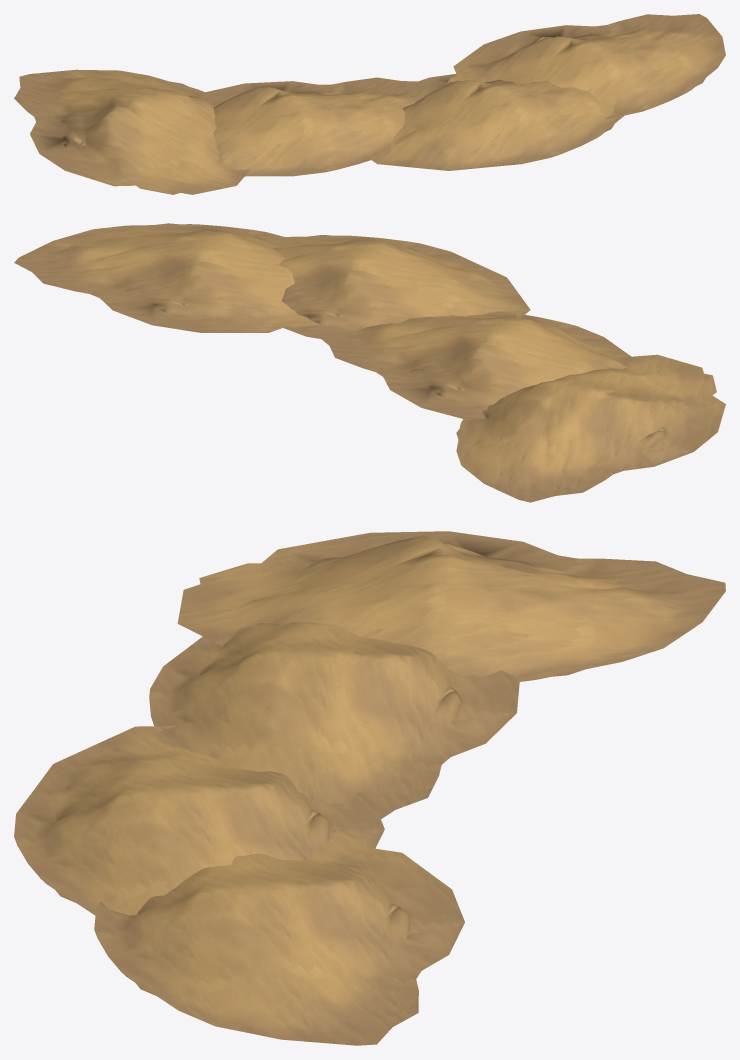
Rendered from Area_13_4.fbx.
3 renders of one model, top to bottom at view 1: azimuth 30°, elevation 25°; view 2: azimuth 150°, elevation 25°; view 3: azimuth 270°, elevation 25°, orthographic. The views are drawn at different scales.
Parts seen in each view (by area): view 1: Area_13_4; view 2: Area_13_4; view 3: Area_13_4.
Boxes of the visible parts, x1,y1,x2,y2 form: Area_13_4: (14,14,725,194); Area_13_4: (14,223,725,502); Area_13_4: (14,531,725,1045).
Size of the model in its own units: 15611 by 719 by 9128.
1 material, 1 textured.
